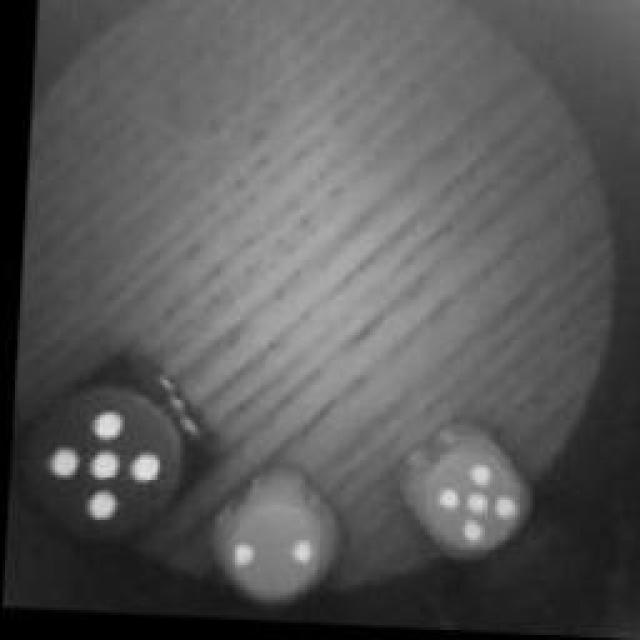dice_2: (204, 475, 338, 615)
dice_5: (11, 371, 201, 561), (399, 434, 529, 568)
